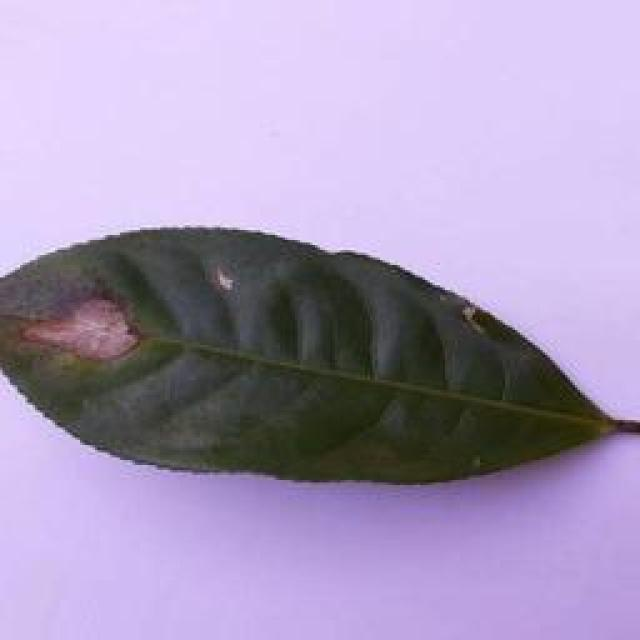Gray Blight: (2, 220, 640, 493)
